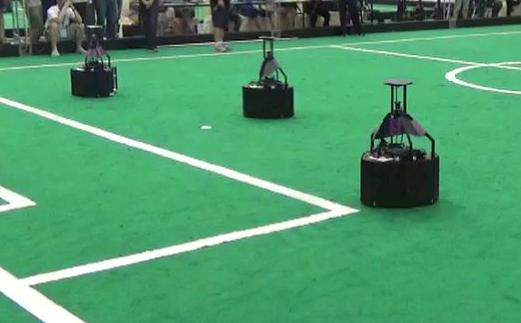robot: (356, 77, 441, 209), (239, 33, 295, 120), (69, 25, 121, 99)
